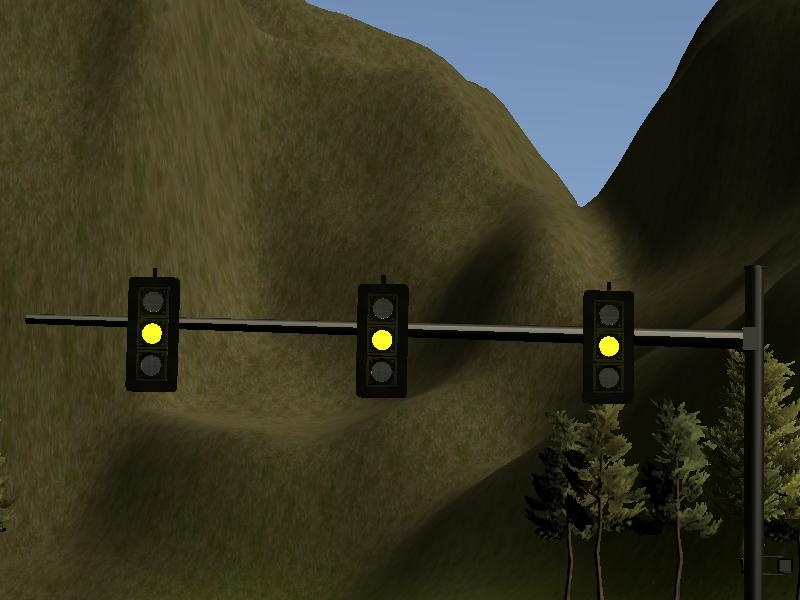YELLOW: (581, 283, 635, 403), (354, 282, 408, 402), (124, 273, 178, 393)
